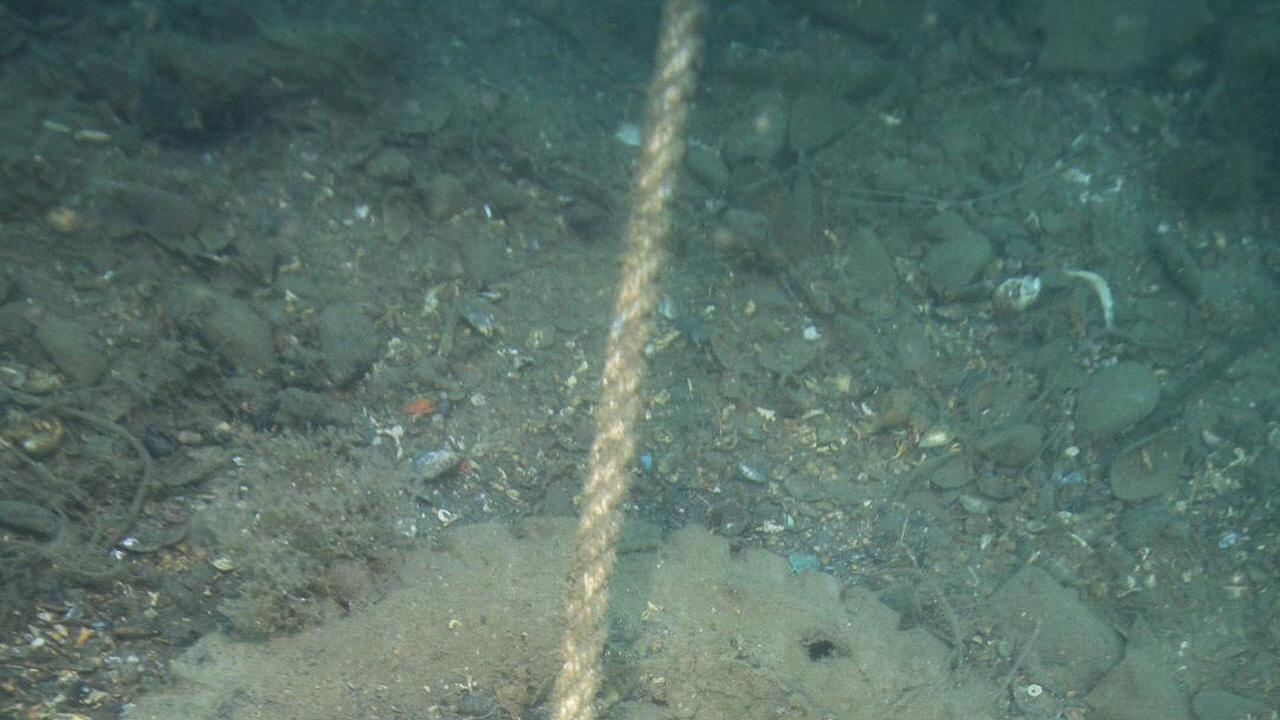rope: (545, 0, 718, 720)
